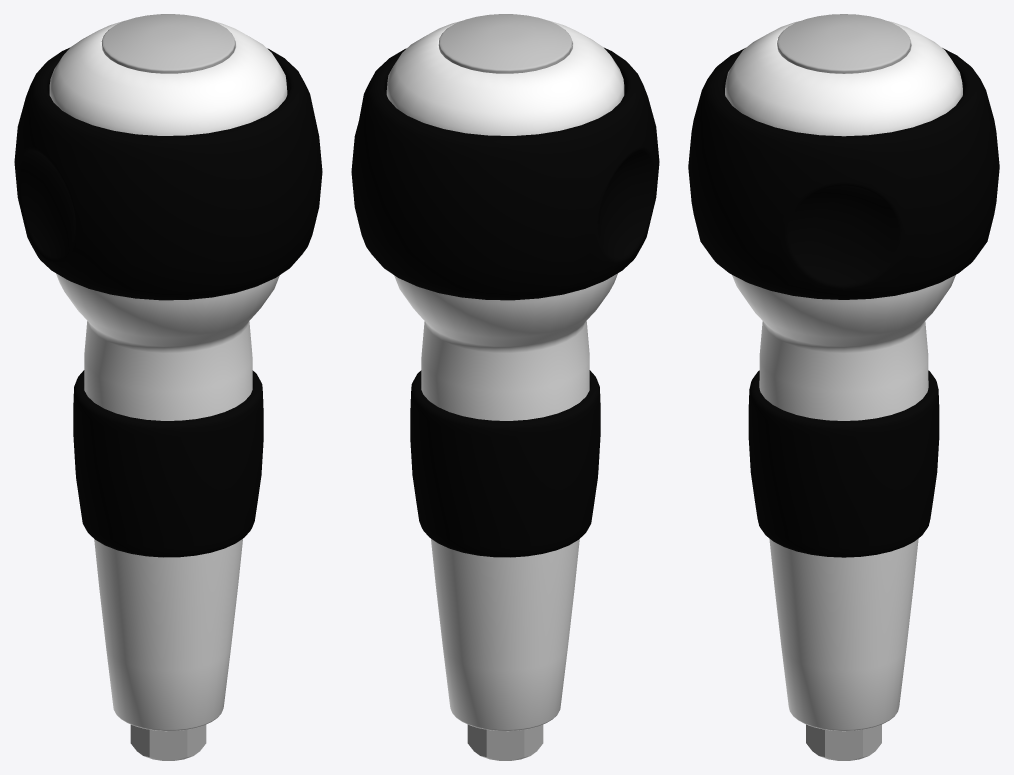
3 renders of one model, left to right at view 1: azimuth 30°, elevation 25°; view 2: azimuth 150°, elevation 25°; view 3: azimuth 270°, elevation 25°, orthographic.
Parts seen in each view (by area): view 1: 238HW; view 2: 238HW; view 3: 238HW.
Part boxes in pixels (box(x1,y1,x2,y2)): 238HW: box(14, 14, 322, 760); 238HW: box(351, 14, 659, 760); 238HW: box(688, 14, 999, 760).
Bounding box in the file's own units: 0.0383 × 0.1032 × 0.0407.
Materials: 1 (1 with a texture image).
